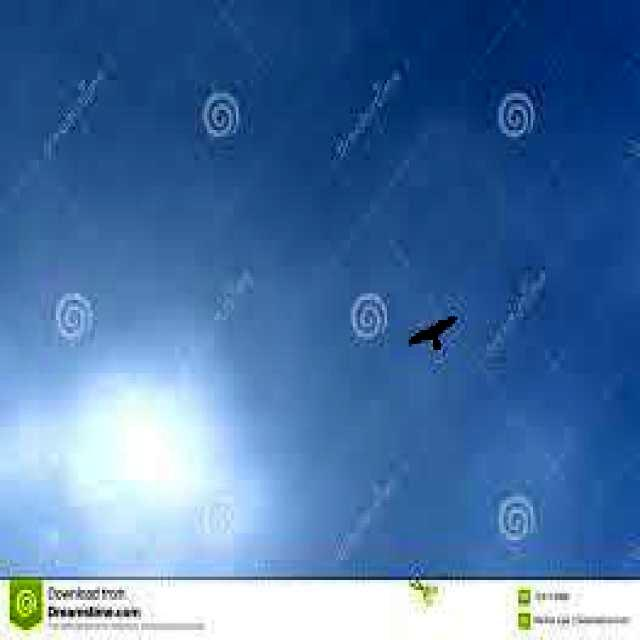bird: (407, 307, 457, 360)
